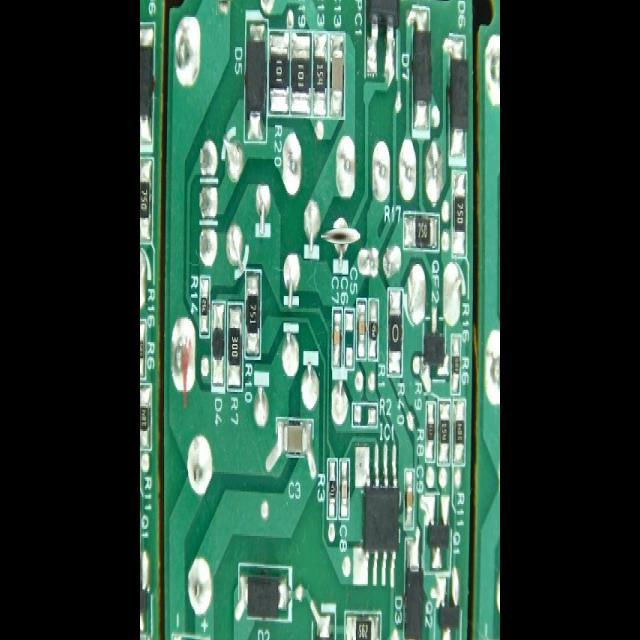damged: (327, 222, 355, 251), (216, 0, 230, 15)
